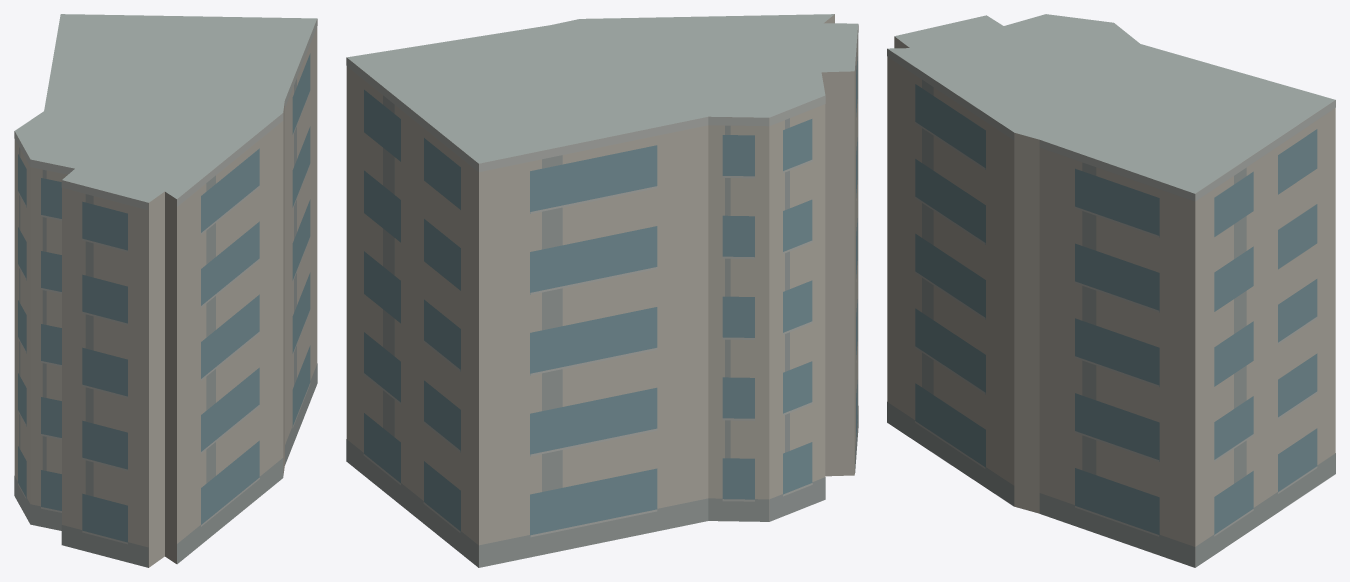
Rendered from survey-upis-32724549.glb.
The picture shows the model from 3 angles, left to right: view 1: azimuth 30°, elevation 25°; view 2: azimuth 150°, elevation 25°; view 3: azimuth 270°, elevation 25°; orthographic projection. The views are drawn at different scales.
Visible parts, largest first — view 1: survey-upis-32724549.tmp; view 2: survey-upis-32724549.tmp; view 3: survey-upis-32724549.tmp.
Boxes of the visible parts, <box> form: survey-upis-32724549.tmp: <box>14,14,317,567</box>; survey-upis-32724549.tmp: <box>346,14,858,567</box>; survey-upis-32724549.tmp: <box>887,14,1335,567</box>.
Size of the model in its own units: 11.97 by 11.6 by 12.62.
